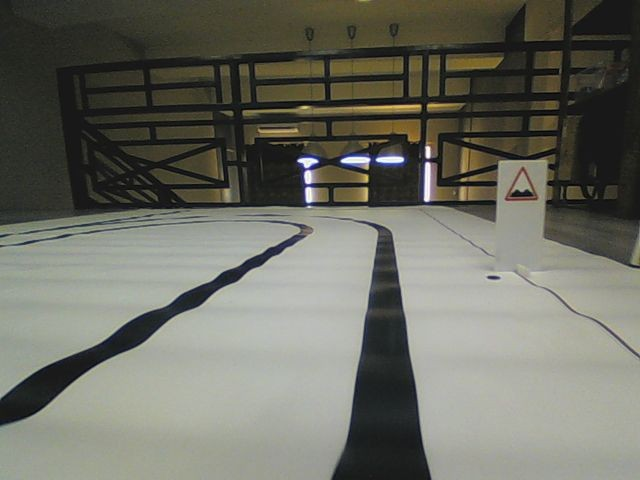Nerov: (504, 165, 540, 202)
